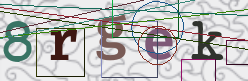8: (3, 20, 33, 62)
e: (144, 26, 174, 60)
g: (96, 15, 127, 61)
k: (191, 19, 224, 61)
r: (49, 29, 79, 61)
